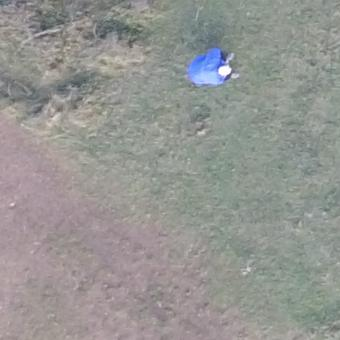human: (185, 44, 241, 88)
